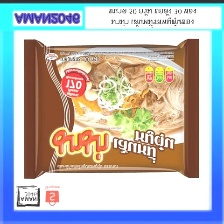snack: (16, 33, 206, 183)
